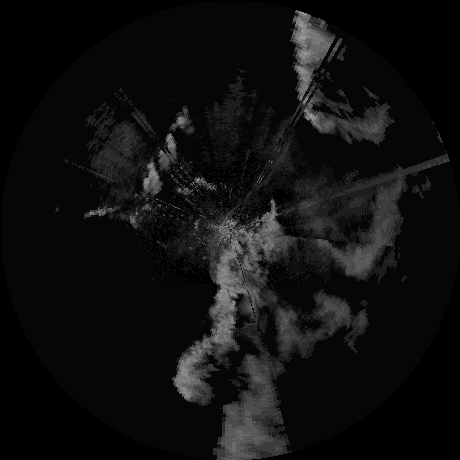frontgust: (224, 144, 288, 221)
